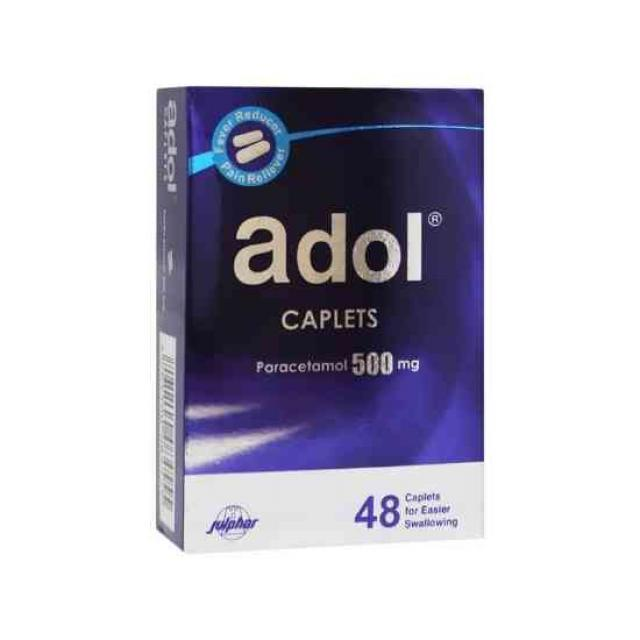drug-name: (232, 206, 425, 288)
